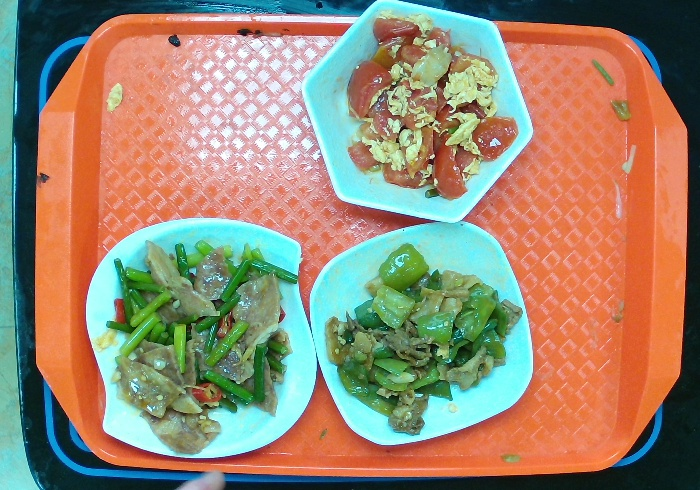RJxy-Liu_Jiao_Wan: (304, 1, 539, 231)
RJxy-Shuang_Jiao_Pan: (83, 217, 321, 459)
RJxy-Si_Fang_Wan: (308, 216, 542, 454)
